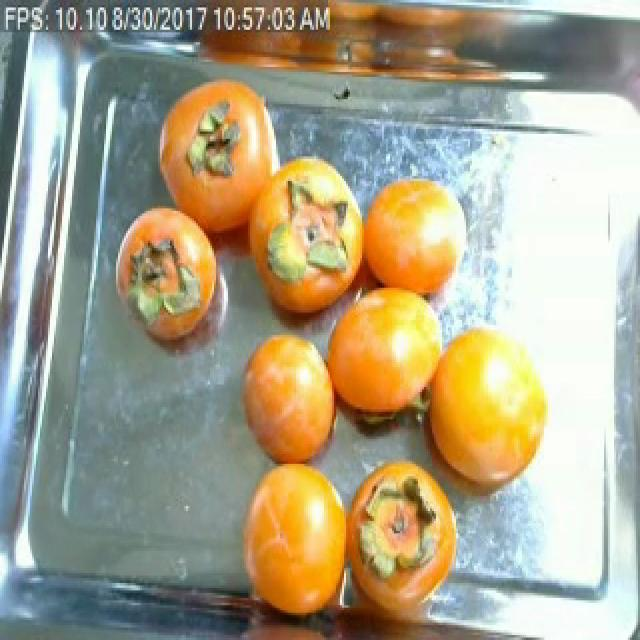Fruit: (404, 305, 564, 521), (226, 449, 354, 633), (144, 62, 294, 218), (346, 161, 482, 318), (230, 320, 348, 481), (348, 447, 466, 608), (106, 194, 218, 332)
